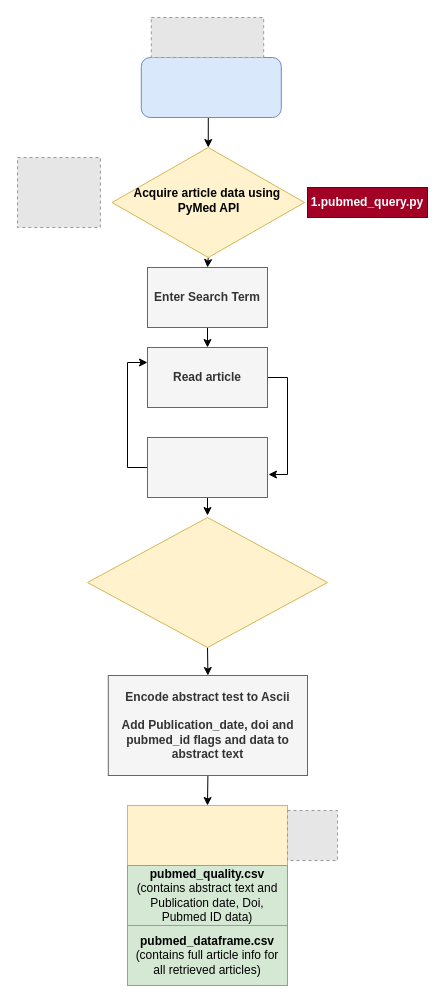
Image size: 445x1003. Some labels were removed from this diagram. Grey dashed boxes stand in for pictures. Each missing label, with the centre of its shape:
"Clean up data and add extra flags to recognize specific fields" belongs at point 207,582.
"Export data to CSV format" belongs at point 207,835.
"PubMed Public Repository" belongs at point 210,87.
"Save article information in dataframe" belongs at point 207,467.
